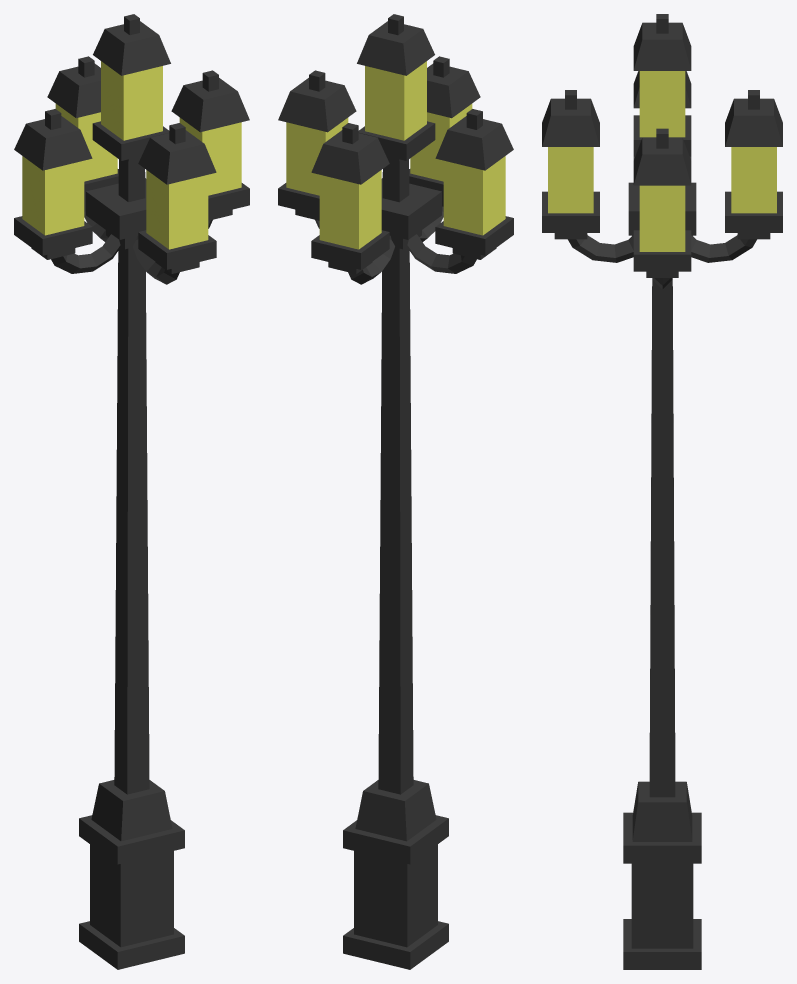
The model's file is lamp01.fbx.
3 renders of one model, left to right at view 1: azimuth 30°, elevation 25°; view 2: azimuth 150°, elevation 25°; view 3: azimuth 270°, elevation 25°, orthographic.
Parts seen in each view (by area): view 1: _lamp; view 2: _lamp; view 3: _lamp.
Part boxes in pixels (bbox=[...]): _lamp: bbox=[14, 14, 249, 969]; _lamp: bbox=[278, 14, 513, 969]; _lamp: bbox=[542, 14, 782, 969].
Size of the model in its own units: 11.11 by 47.66 by 11.11.
